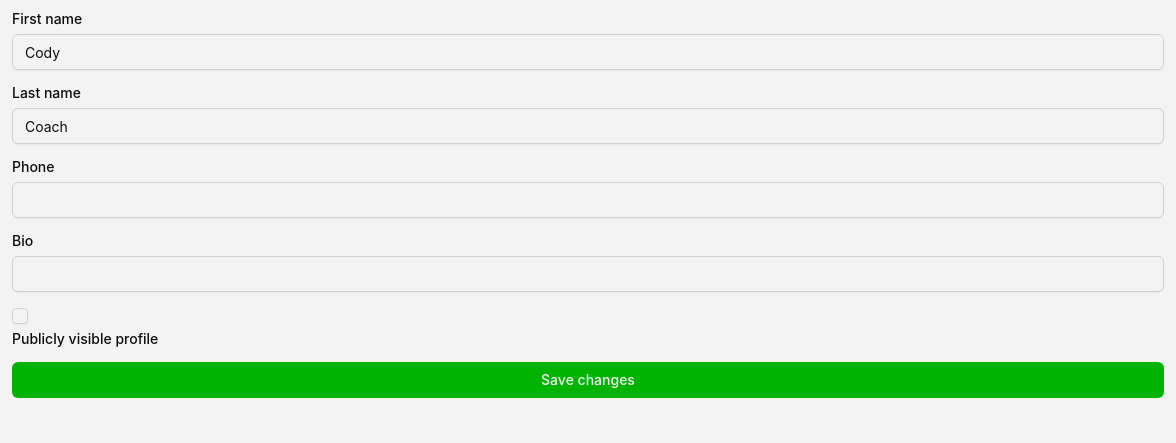
Scenario: EditProfileForm › renders a 422 field error from the server beside its own input
Click the button "Save changes": [588, 380] box [12,362,1164,398]
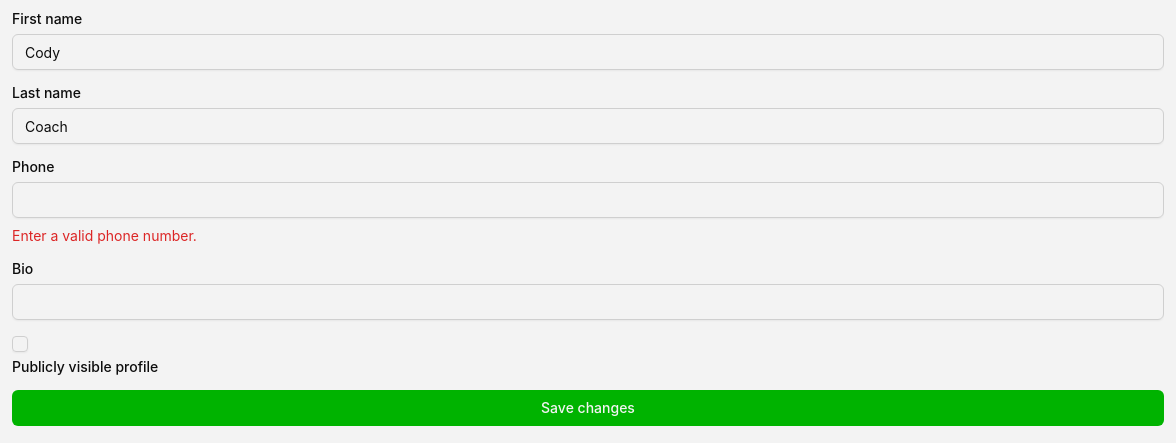
Now the text "Enter a valid phone number." is shown, box [12,227,197,244]
